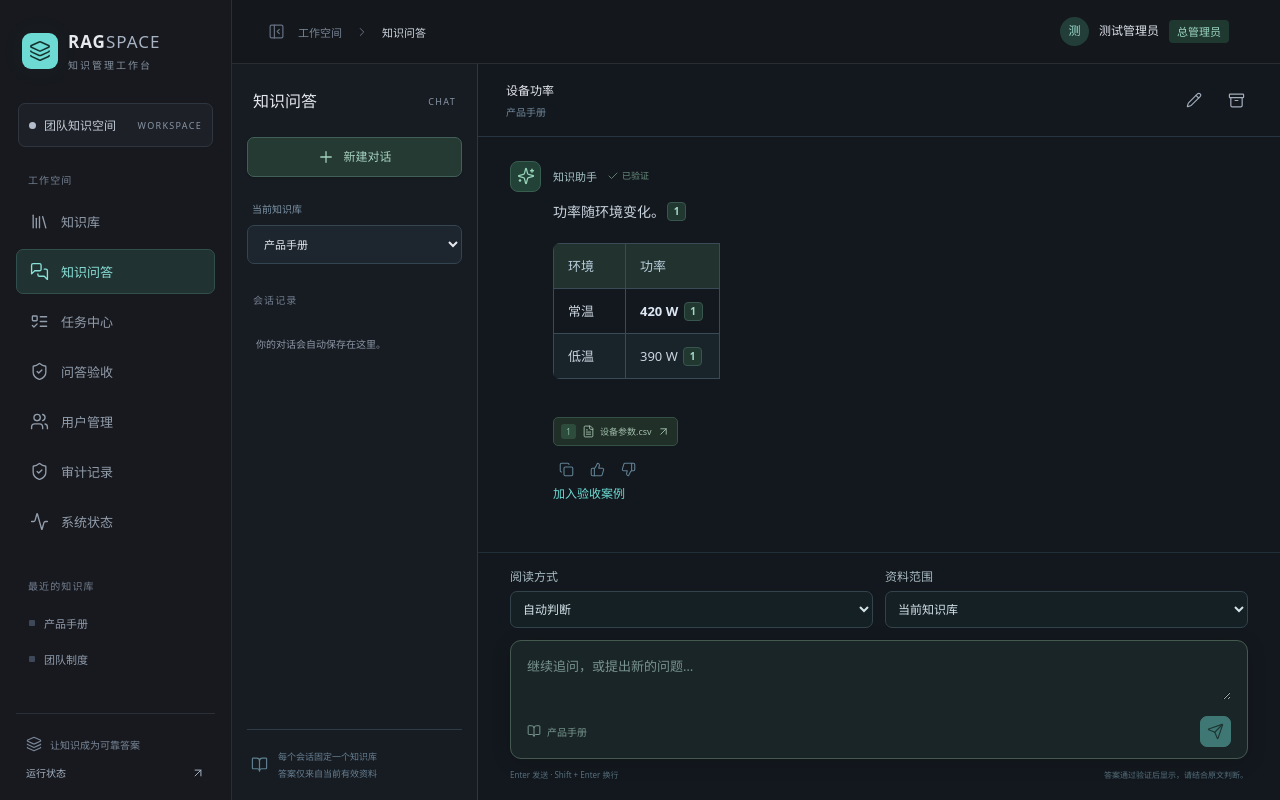
Test: conversation result gating › renders working table source links, including trailing markers: false
(page scrolled)
Expected: the number of cells is 4, [554,288,626,333]; [626,288,719,333]; [554,333,626,378]; [626,333,719,378]
Expected: the text "420 W" is shown, [640,302,678,320]
Click the link with id "citation-E2". click: click(693, 311)
box: [684,302,703,321]
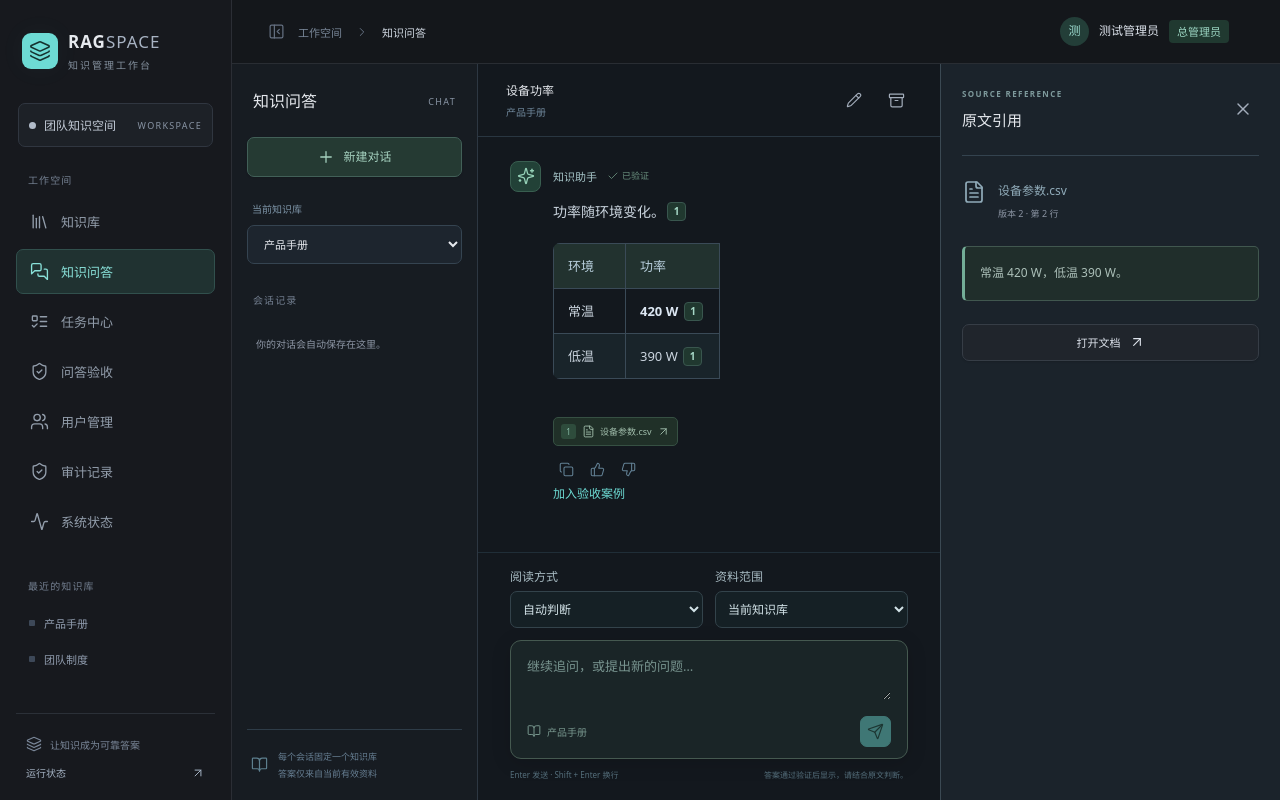
Expected: the element with class "source-text" shows "常温 420 W", [980,264,1128,281]
Expected: the element with class "source-file" shows "设备参数.csv", [998,182,1067,199]
